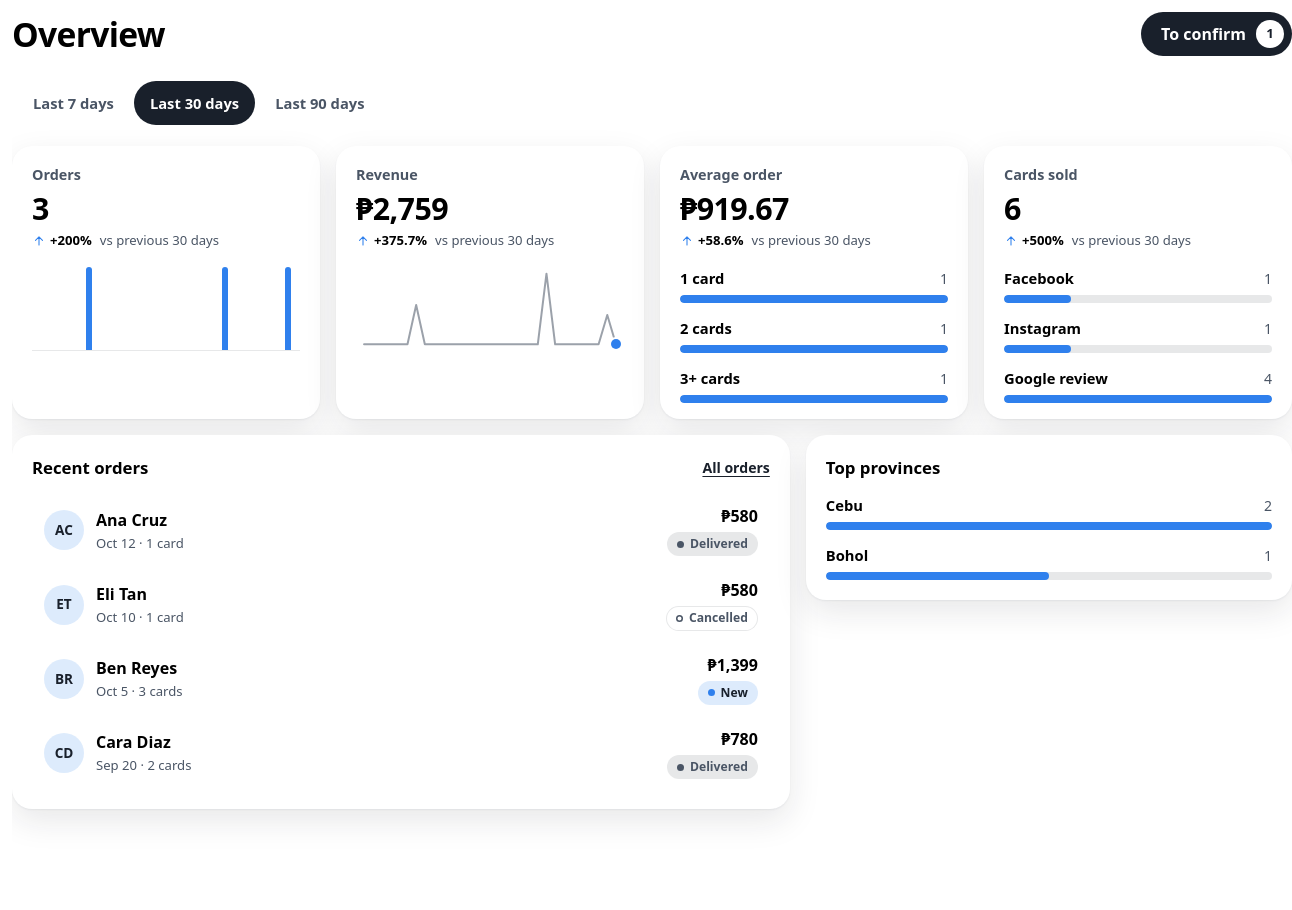
Test: OverviewPage › switches the period for every number at once
Step 1. Click the button "Last 7 days" → (73, 103), box [17,81,130,125]
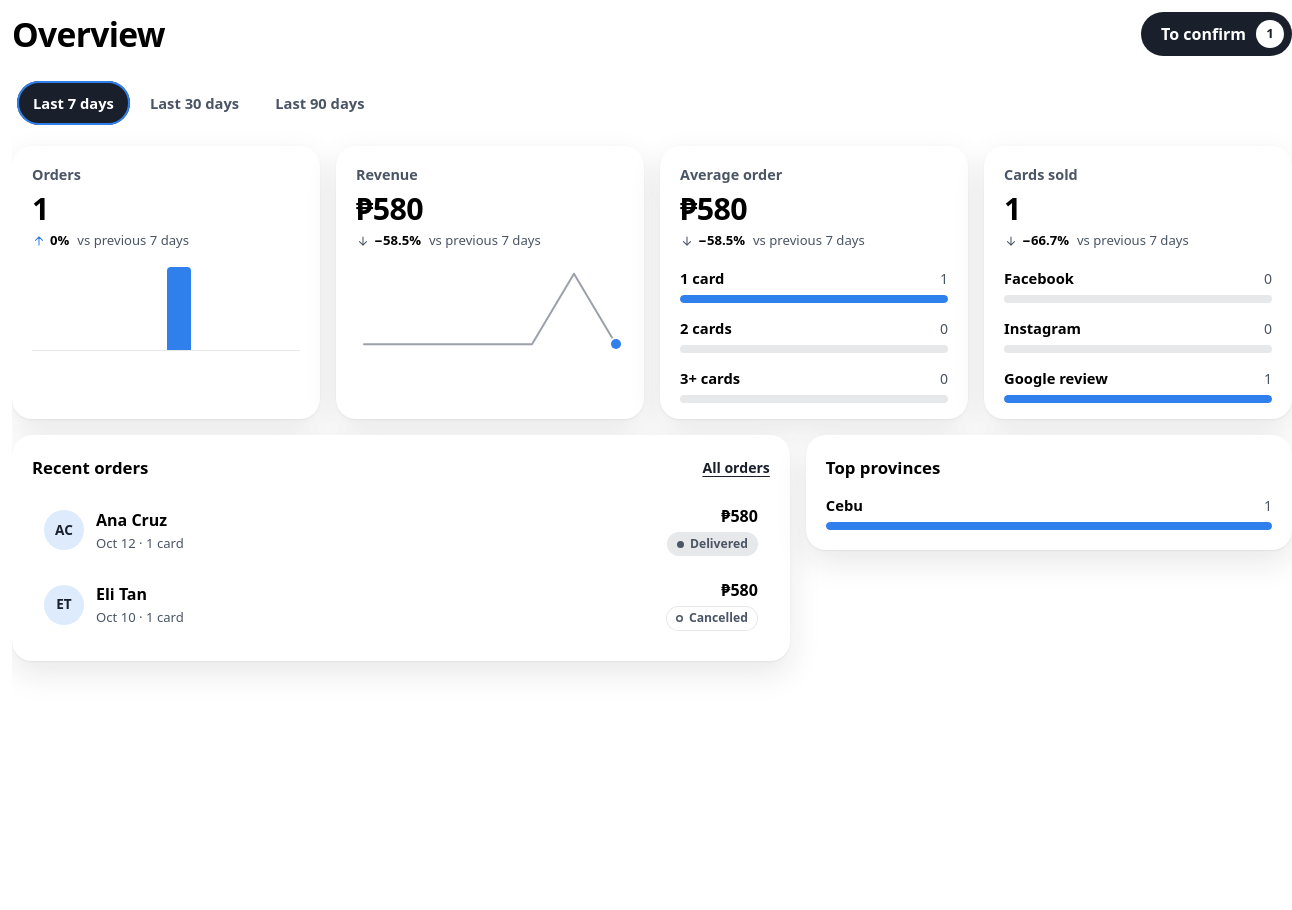
Check: the 2nd text "1" is shown, box [32,188,49,229]
Check: the 1st text "₱580" is shown, box [356,188,423,229]
Check: the link "Cara Diaz" is gone
